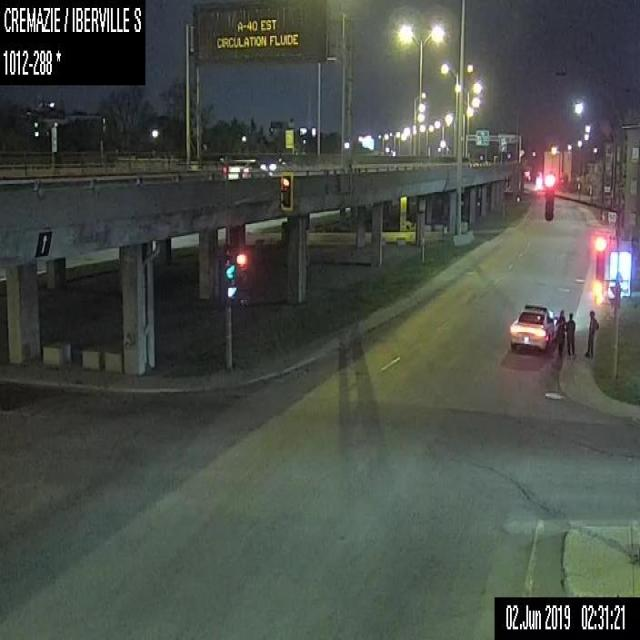pedestrian: (585, 310, 599, 358), (555, 308, 564, 356), (565, 312, 575, 355)
vehicle: (508, 302, 558, 350), (222, 158, 264, 178), (260, 156, 286, 171)
